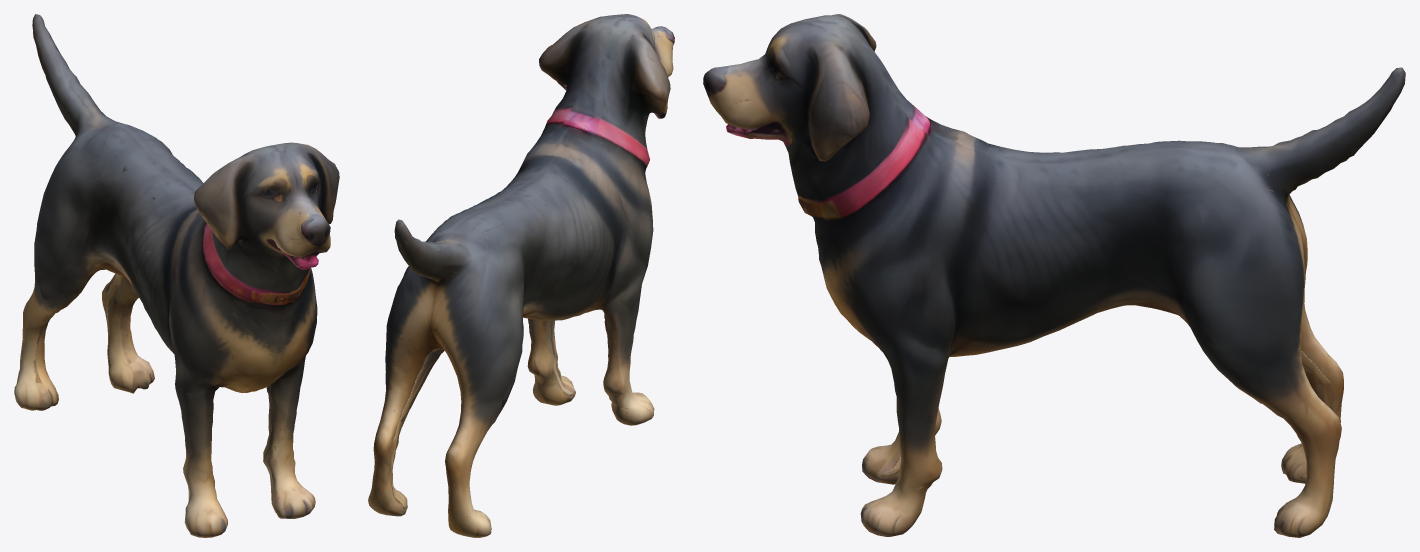
Rendered from 7966dbae-bb37-467f-8486-93512b86129d.glb.
3 renders of one model, left to right at view 1: azimuth 30°, elevation 25°; view 2: azimuth 150°, elevation 25°; view 3: azimuth 270°, elevation 25°, orthographic. The views are drawn at different scales.
Visible parts, largest first — view 1: Mesh_0.001; view 2: Mesh_0.001; view 3: Mesh_0.001.
Boxes of the visible parts, x1=… form: Mesh_0.001: x1=14, y1=14, x2=339, y2=537; Mesh_0.001: x1=368, y1=14, x2=674, y2=537; Mesh_0.001: x1=703, y1=14, x2=1405, y2=537.
Size of the model in its own units: 0.3322 by 0.913 by 1.2.
Materials: 1 (1 with a texture image).
